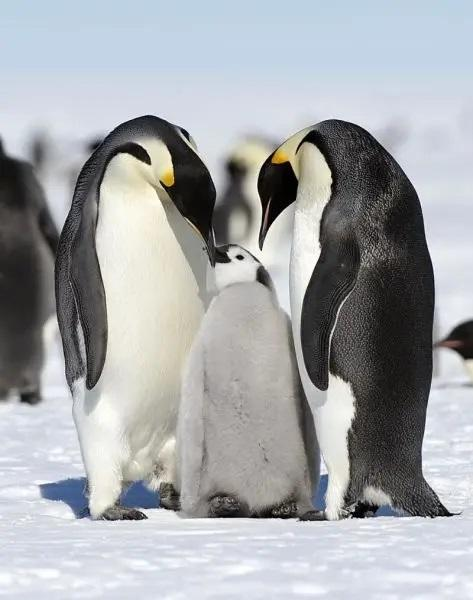emporer: (236, 89, 465, 540), (32, 89, 253, 523)
